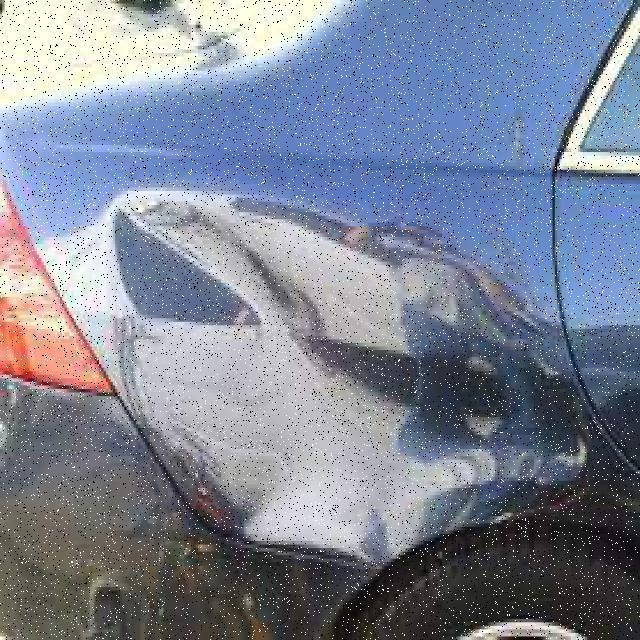quaterpanel-dent: (101, 56, 594, 630)
